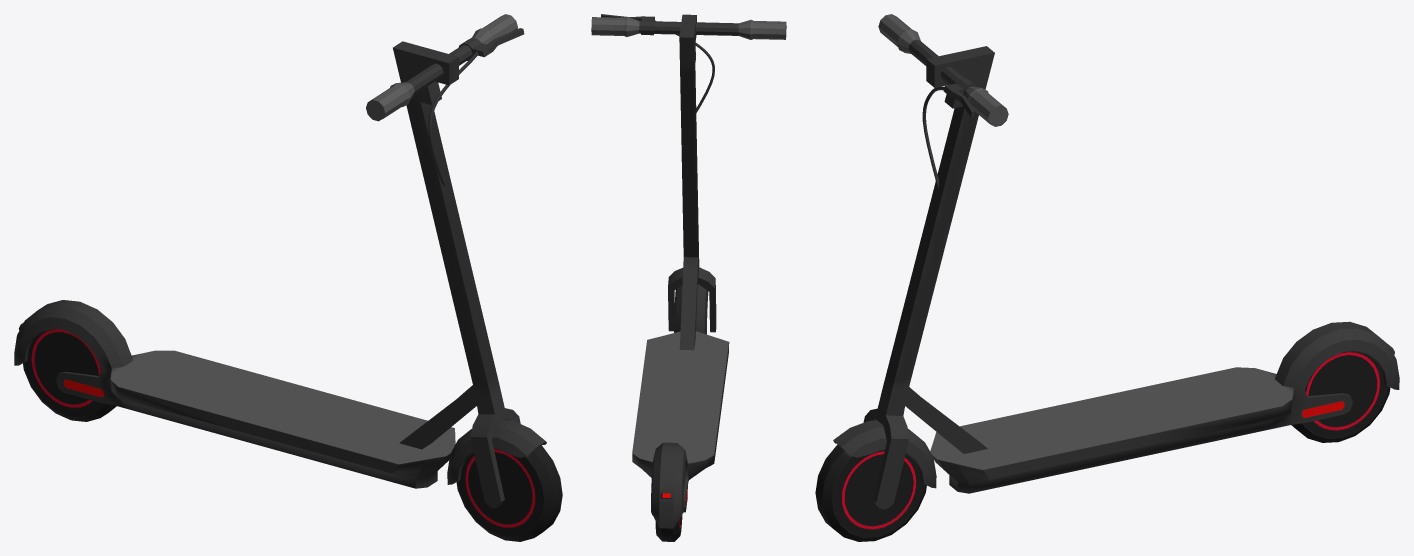
The model's file is fbx_plaza_kickboard.fbx.
3 renders of one model, left to right at view 1: azimuth 30°, elevation 25°; view 2: azimuth 150°, elevation 25°; view 3: azimuth 270°, elevation 25°, orthographic. The views are drawn at different scales.
Parts seen in each view (by area): view 1: fbx_plaza_kickboard; view 2: fbx_plaza_kickboard; view 3: fbx_plaza_kickboard.
Boxes of the visible parts, bbox=[...] form: fbx_plaza_kickboard: bbox=[14, 14, 562, 541]; fbx_plaza_kickboard: bbox=[591, 14, 786, 541]; fbx_plaza_kickboard: bbox=[815, 14, 1399, 541].
Bounding box in the file's own units: 1.53 × 2.21 × 2.53.
Materials: 1 (1 with a texture image).
